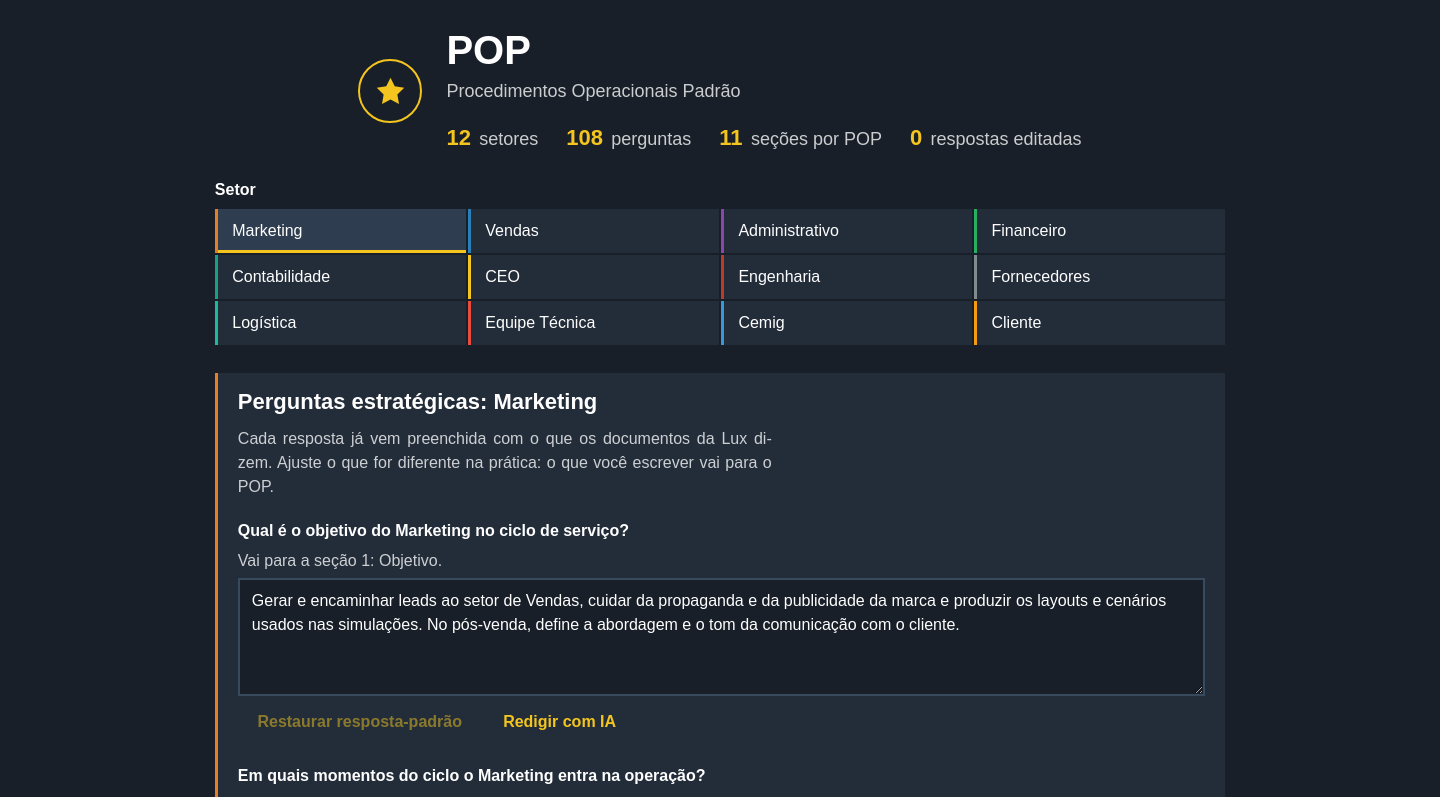
Test: tela POP › “Restaurar resposta-padrão” volta ao texto original e limpa a edição guardada
Type " Mais um trecho." into the text box labelled "Qual é o objetivo do Marketing no ciclo de serviço?" at [721, 637], box [238,578,1205,696]
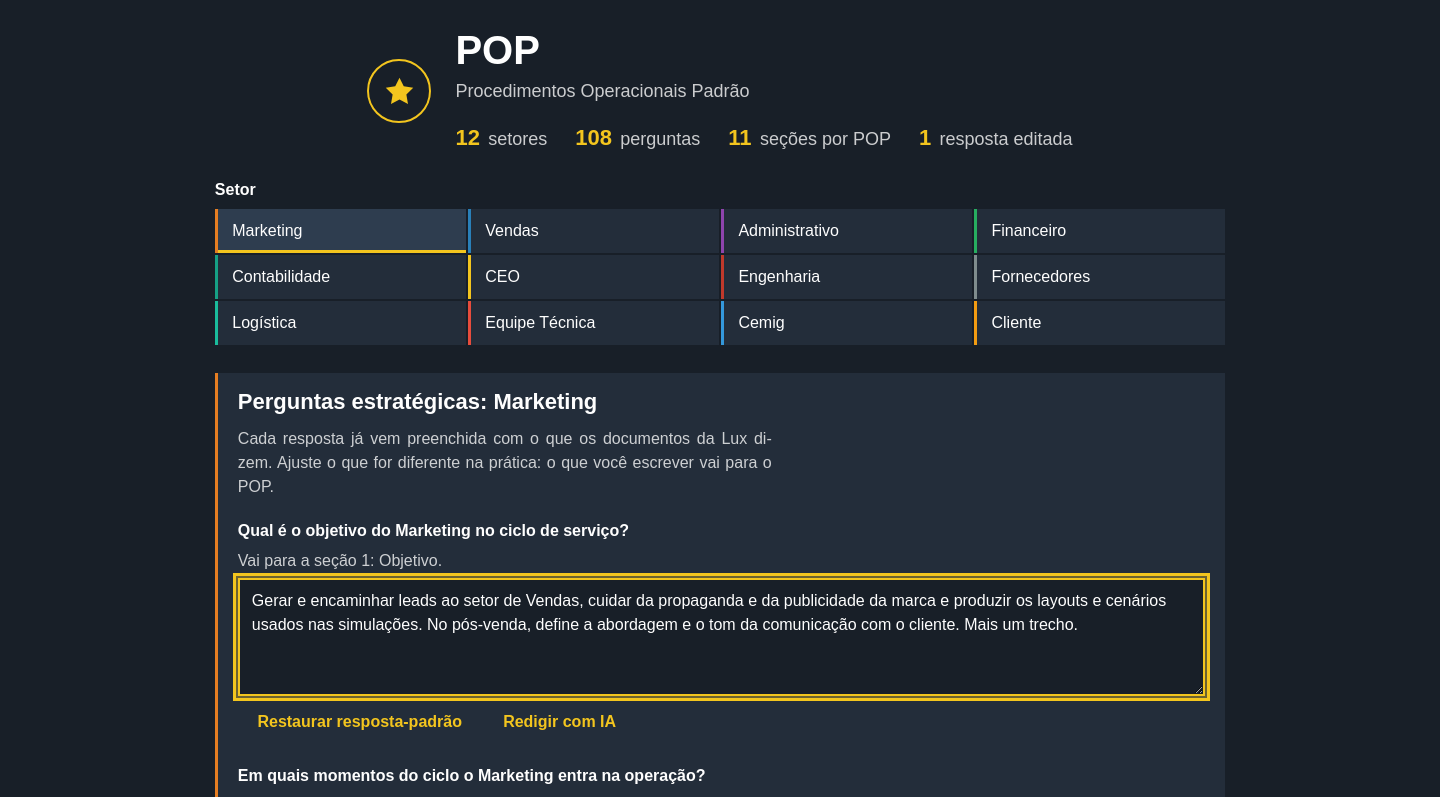
Click the button "Restaurar resposta-padrão" at [360, 722], box [238,700,482,744]
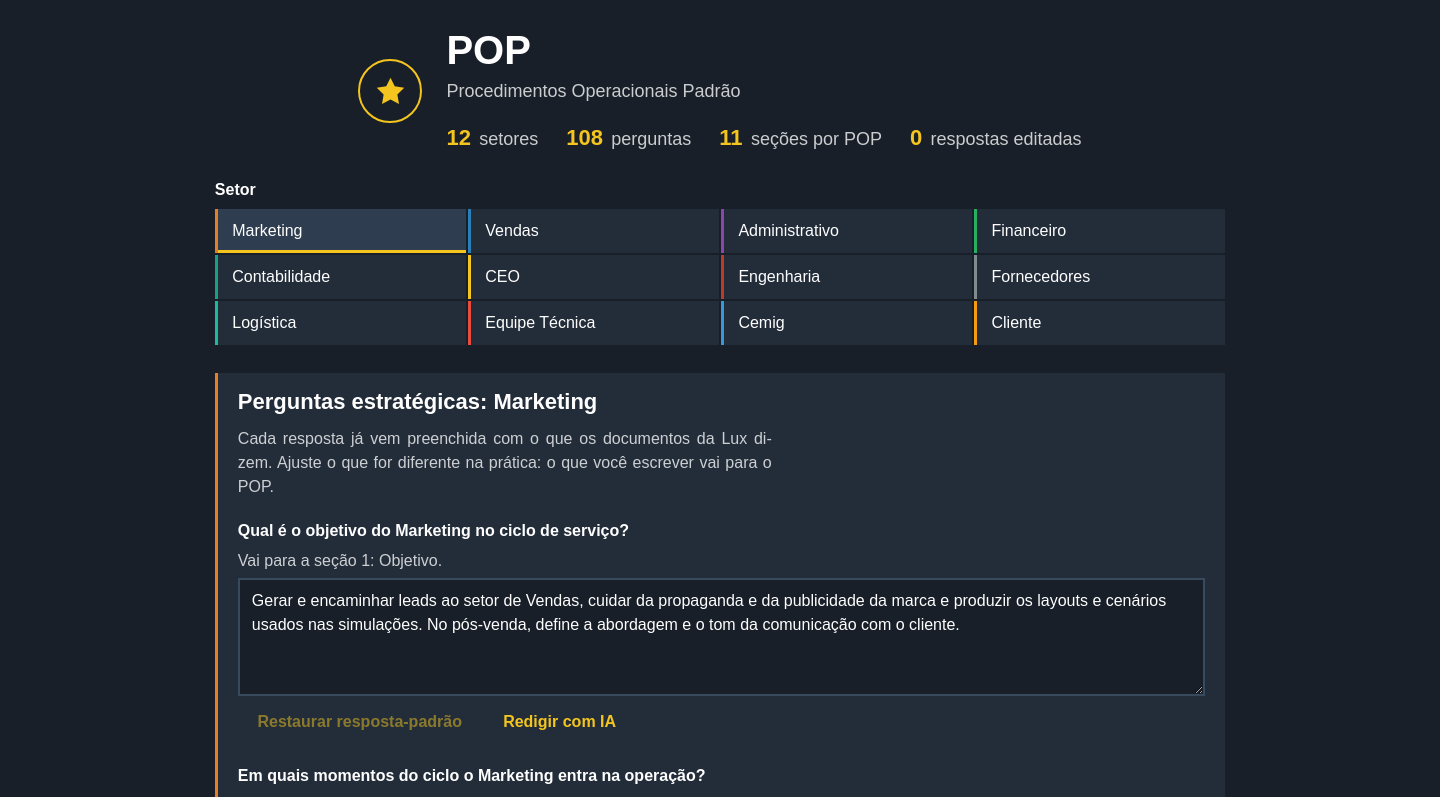
Check: the text box labelled "Qual é o objetivo do Marketing no ciclo de serviço?" holds "Gerar e encaminhar leads ao setor de Vendas, cuidar da propaganda e da publicidade da marca e produzir os layouts e cenários usados nas simulações. No pós-venda", box [238,578,1205,696]
